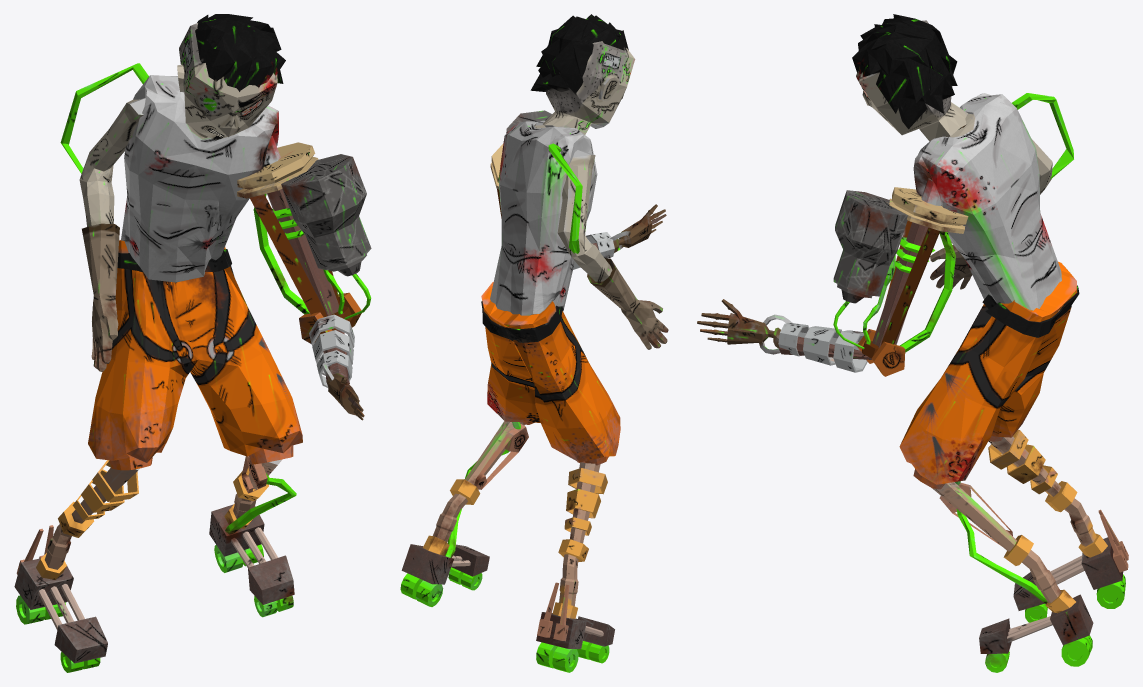
The model's file is CyborgFINALAnimation_000007.obj.
3 renders of one model, left to right at view 1: azimuth 30°, elevation 25°; view 2: azimuth 150°, elevation 25°; view 3: azimuth 270°, elevation 25°, orthographic. The views are drawn at different scales.
Visible parts, largest first — view 1: CyborgMesh_Cube.002; view 2: CyborgMesh_Cube.002; view 3: CyborgMesh_Cube.002.
Part boxes in pixels (left/top/right/bottom): CyborgMesh_Cube.002: left=14, top=14, right=371, bottom=672; CyborgMesh_Cube.002: left=400, top=14, right=668, bottom=672; CyborgMesh_Cube.002: left=697, top=14, right=1128, bottom=672.
Bounding box in the file's own units: 3.22 × 8.95 × 5.54.
